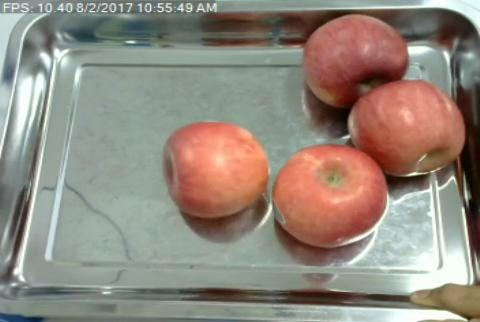apple: (274, 144, 388, 246), (347, 78, 464, 176), (161, 122, 270, 218), (301, 13, 410, 107)
